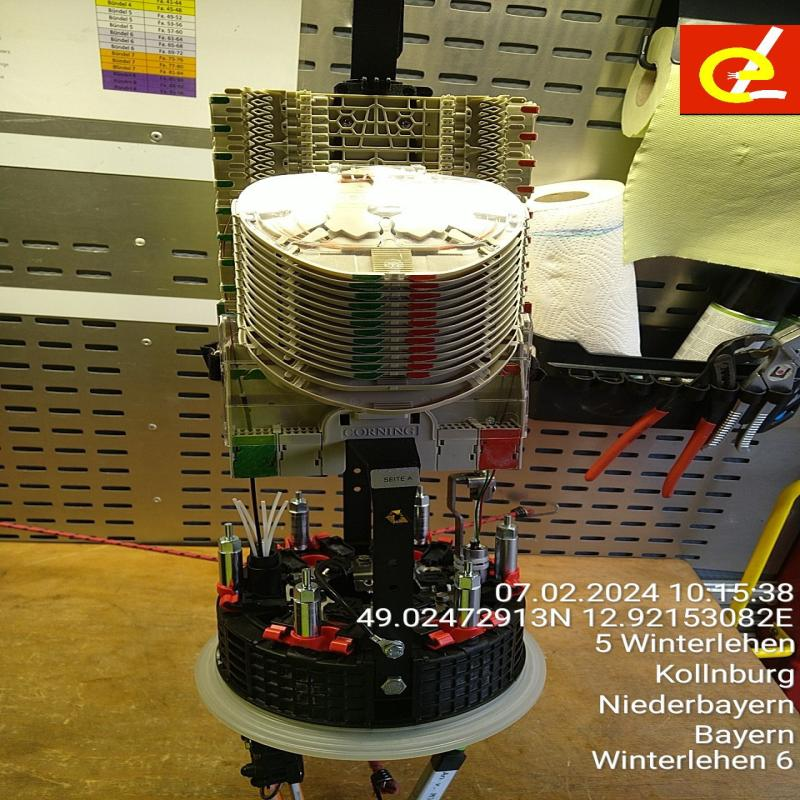NT-Muffen: (207, 83, 558, 764)
